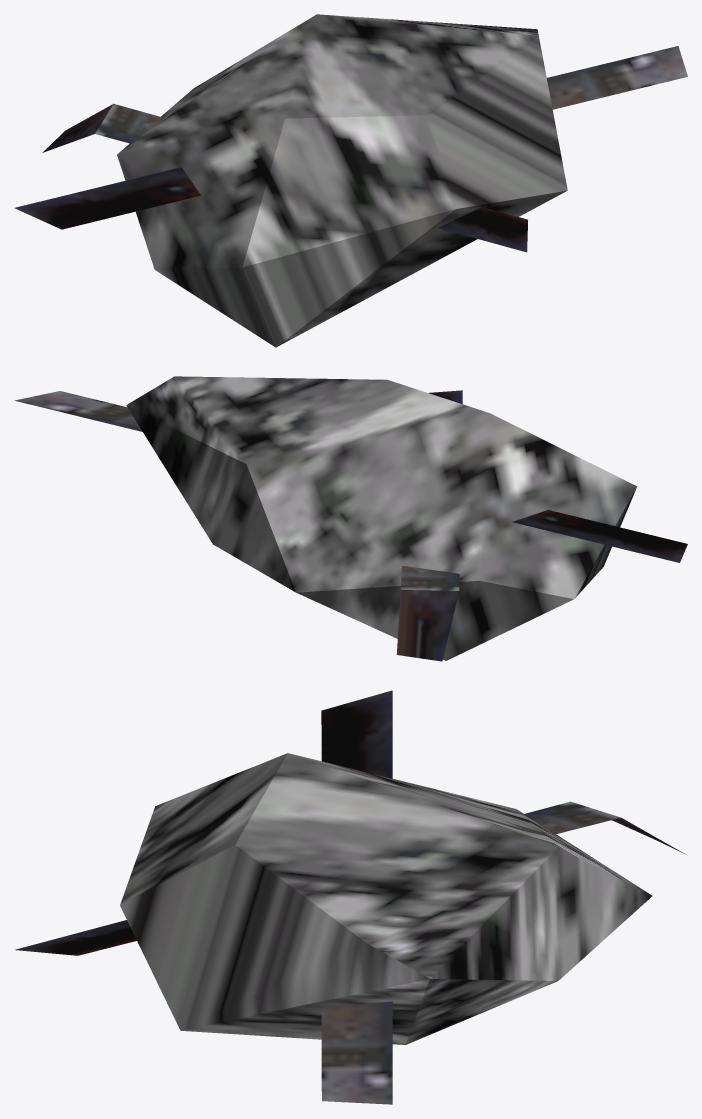
Rendered from Civilian - Civilian Building - Bridg D 04 - CBBridgD04.glb.
3 views of the same model, one above another, from view 1: azimuth 30°, elevation 25°; view 2: azimuth 150°, elevation 25°; view 3: azimuth 270°, elevation 25° (orthographic). The views are drawn at different scales.
Parts seen in each view (by area): view 1: CBBRIDGD04; view 2: CBBRIDGD04; view 3: CBBRIDGD04.
Part boxes in pixels (left/top/right/bottom): CBBRIDGD04: left=14, top=14, right=687, bottom=347; CBBRIDGD04: left=14, top=376, right=687, bottom=661; CBBRIDGD04: left=15, top=690, right=685, bottom=1104.
Size of the model in its own units: 38.06 by 9.64 by 26.17.
1 material, 1 textured.
